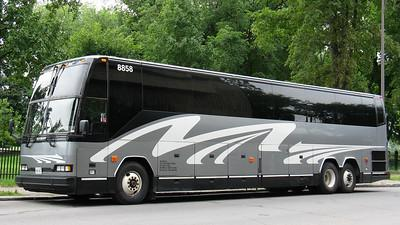bus: (8, 54, 391, 201)
